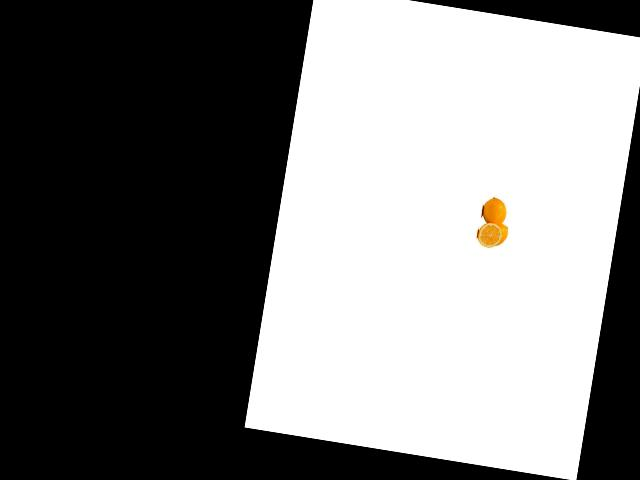lemon: (481, 219, 511, 253)
